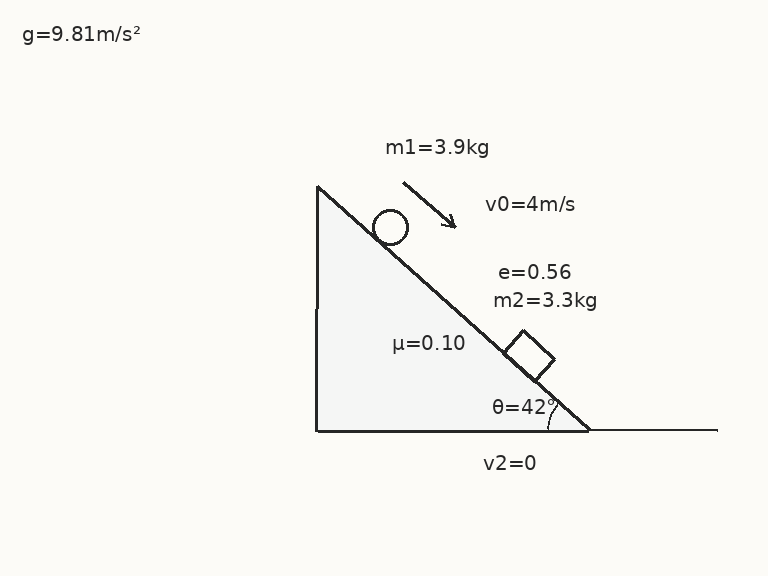ball: (370, 207, 410, 247)
block: (501, 328, 556, 383)
ramp: (315, 184, 590, 432)
